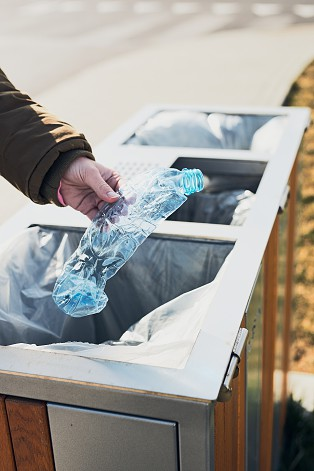plastic_bottle: (31, 116, 259, 425)
